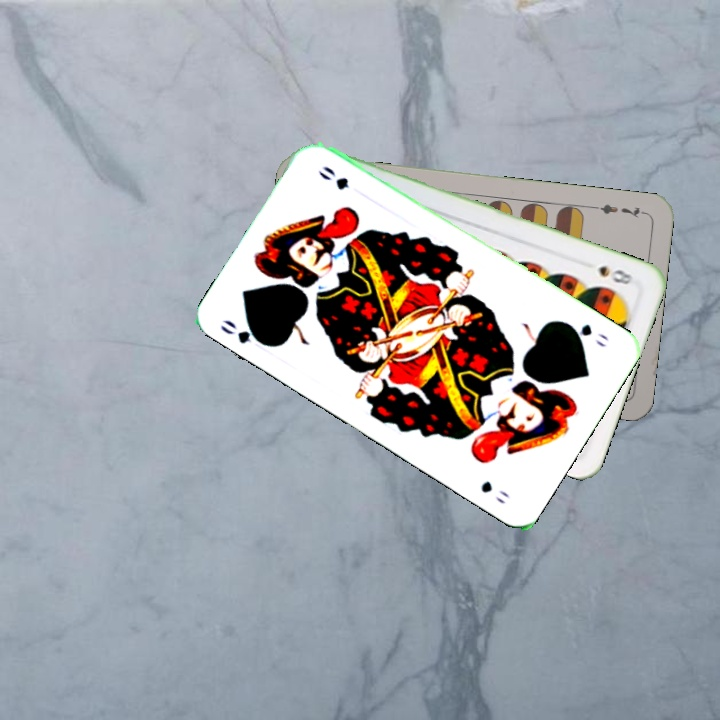E7: (589, 200, 648, 220)
GO: (216, 315, 272, 349), (560, 318, 611, 350)
S8: (594, 261, 636, 288)
